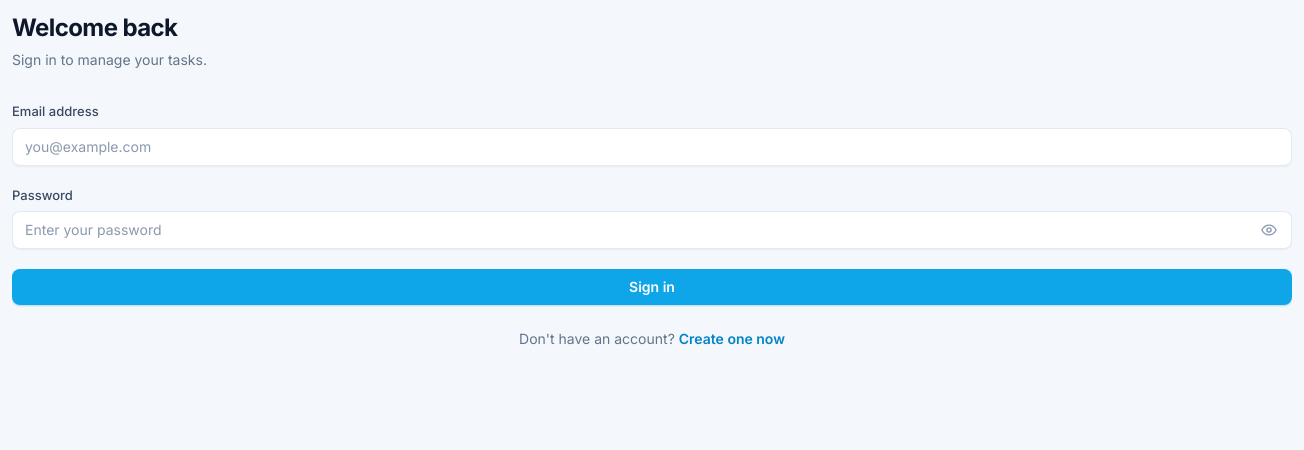
Scenario: LoginForm › shows a toast and inline alert when authentication fails
The image size is (1304, 450).
In the field labelled "Email address": (652, 146) [12,128,1292,166], type "jane@example.com"
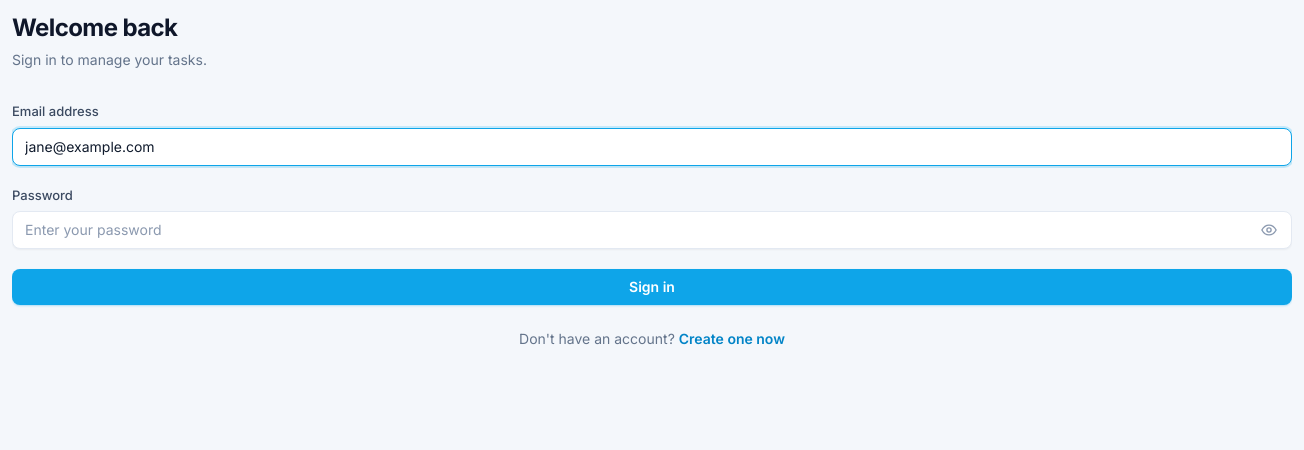
In the password field labelled "Password": (652, 230) [12,211,1292,249], type "WrongPass1"
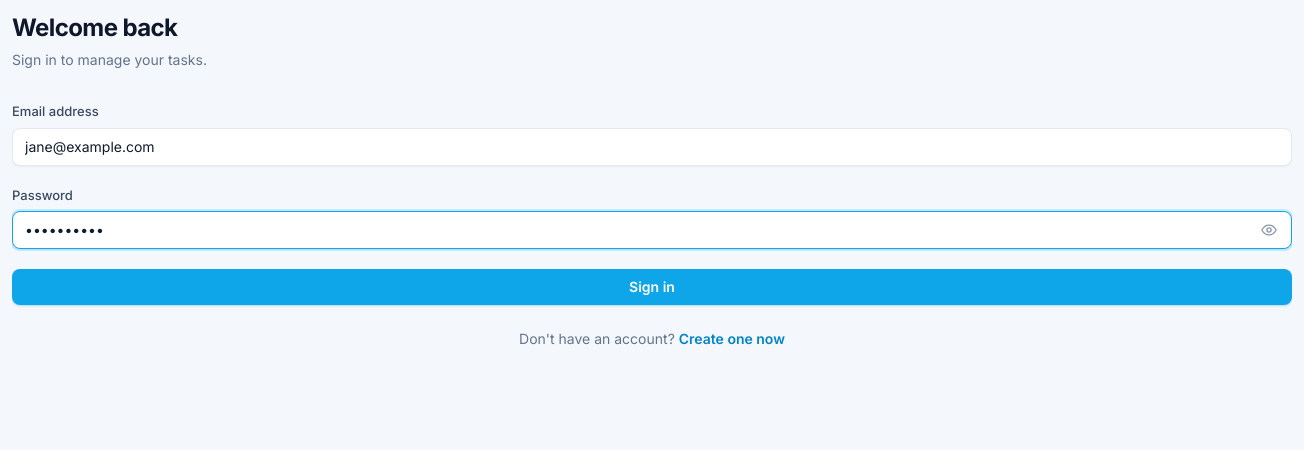
Click the button "Sign in": (652, 287) [12,269,1292,305]
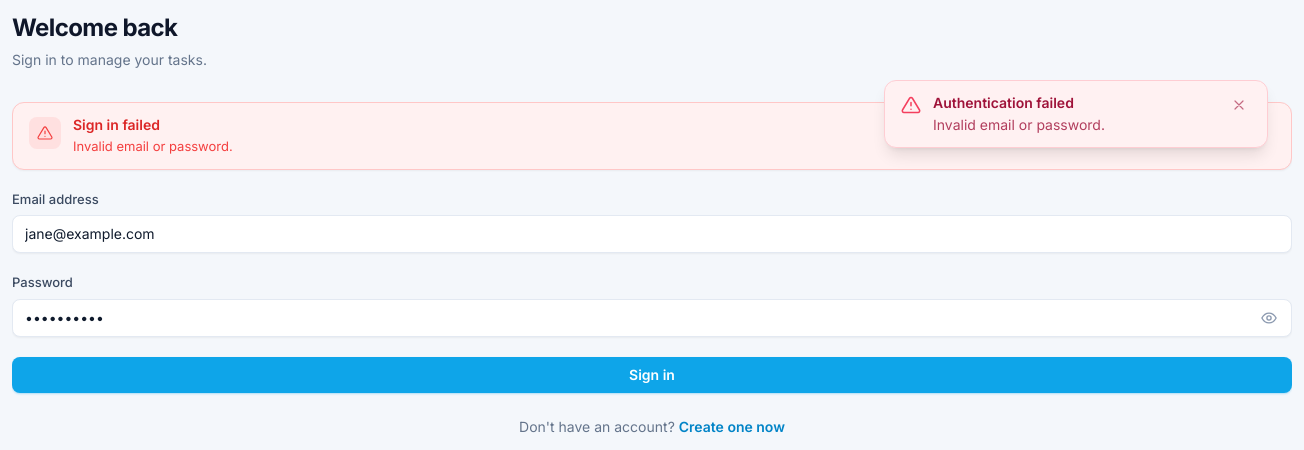
Now the message "Sign in failed Invalid email or password." is shown, box [12,102,1292,170]
Now the text "Authentication failed" is shown, box [933,94,1074,111]
